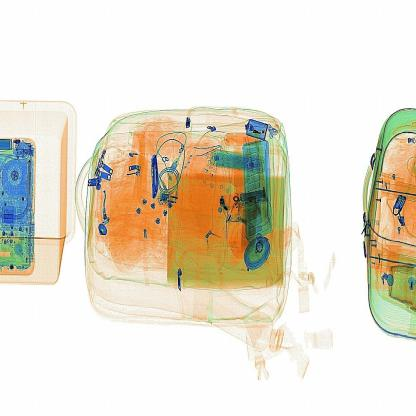knife: (142, 144, 165, 207)
